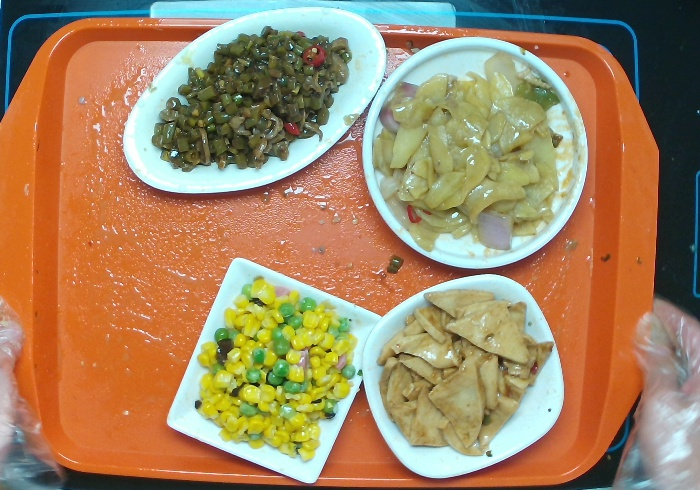HZYJPL-Si_Fang_Die: (164, 254, 391, 485)
HZYJPL-Si_Fang_Yuan_Die: (358, 274, 566, 480)
HZYJPL-Xiao_Yu_Die: (120, 5, 387, 196)
HZYJPL-Xiao_Yuan_Die: (359, 33, 589, 270)
